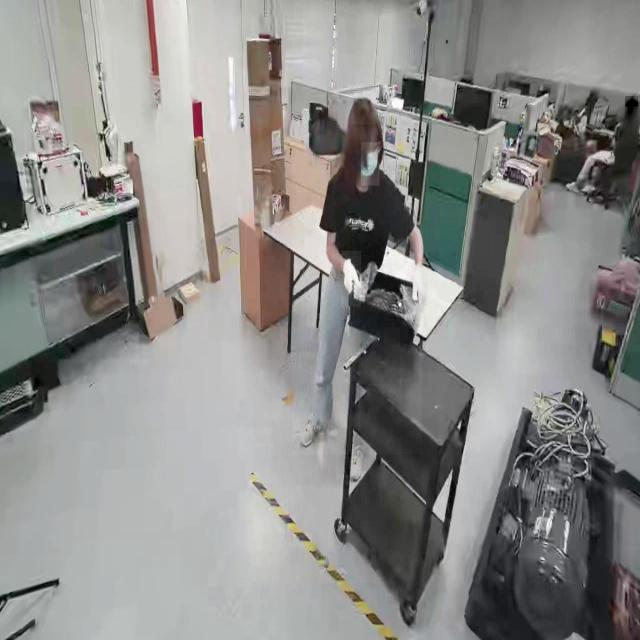face_mask: (361, 142, 379, 186)
hand_glove: (341, 250, 361, 308), (411, 260, 428, 306)
head_nohelmet: (348, 95, 380, 125), (625, 96, 639, 108)
person: (292, 101, 422, 455)
shoes: (296, 401, 334, 452)
